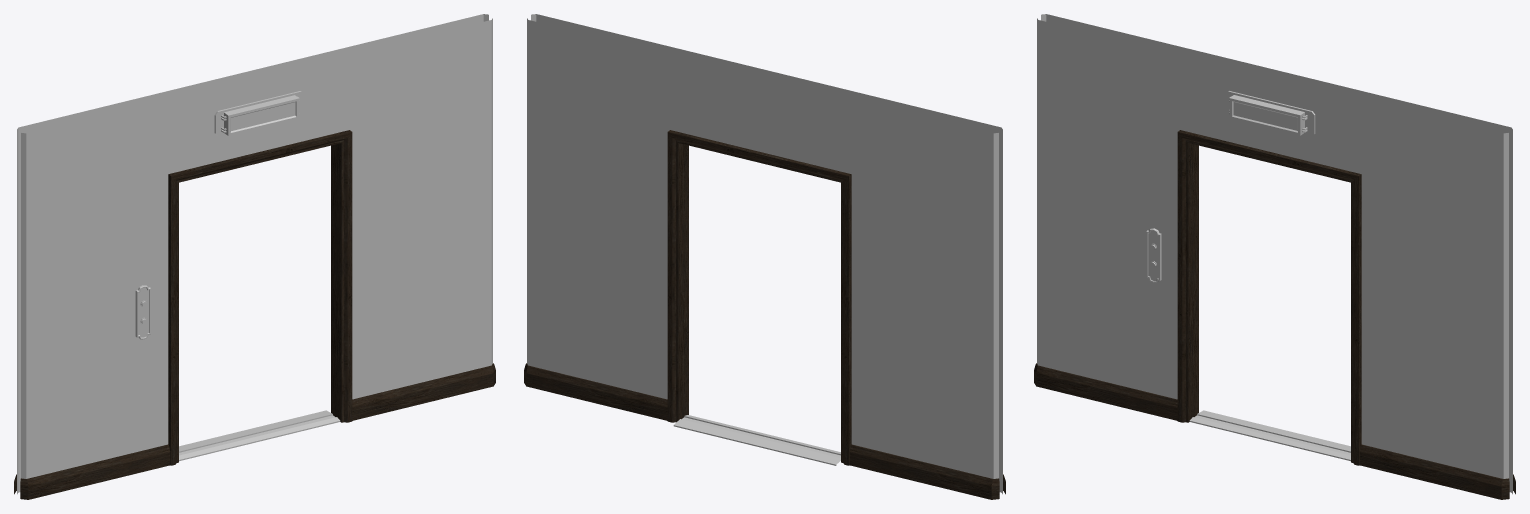
File: elevator_doorway_2.fbx
The picture shows the model from 3 angles, left to right: view 1: azimuth 30°, elevation 25°; view 2: azimuth 150°, elevation 25°; view 3: azimuth 330°, elevation 25°; orthographic projection.
Parts seen in each view (by area): view 1: elevator_doorway_2; view 2: elevator_doorway_2; view 3: elevator_doorway_2.
Boxes of the visible parts, x1,y1,x2,y2 form: elevator_doorway_2: (14,14,495,499); elevator_doorway_2: (524,14,1005,499); elevator_doorway_2: (1034,14,1515,499).
Size of the model in its own units: 4.09 by 3 by 0.29.
